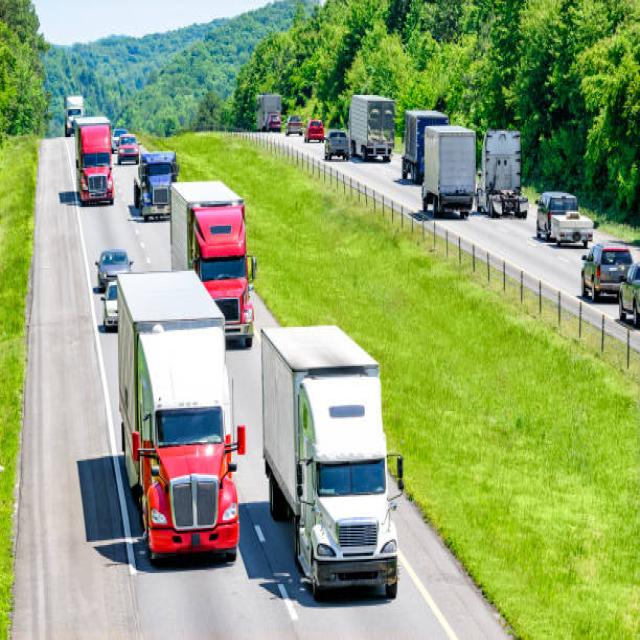Car: (580, 243, 633, 300), (94, 248, 132, 291), (618, 260, 639, 327), (304, 118, 324, 142), (284, 114, 302, 136), (266, 112, 280, 131)
Truck: (259, 322, 404, 600), (116, 269, 246, 564), (170, 179, 258, 347), (420, 123, 476, 218), (476, 128, 528, 218), (73, 115, 114, 204), (401, 109, 448, 184), (133, 150, 178, 221), (348, 94, 396, 160), (256, 93, 282, 131), (64, 95, 84, 135)
